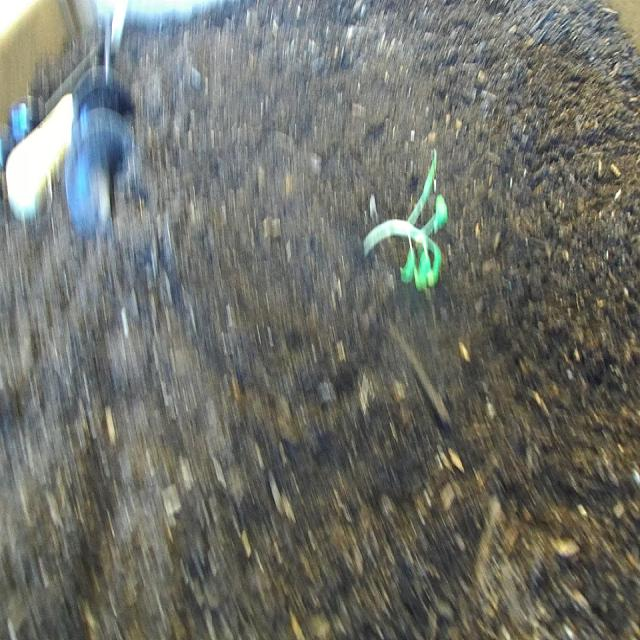Unhealthy: (350, 135, 455, 317)
